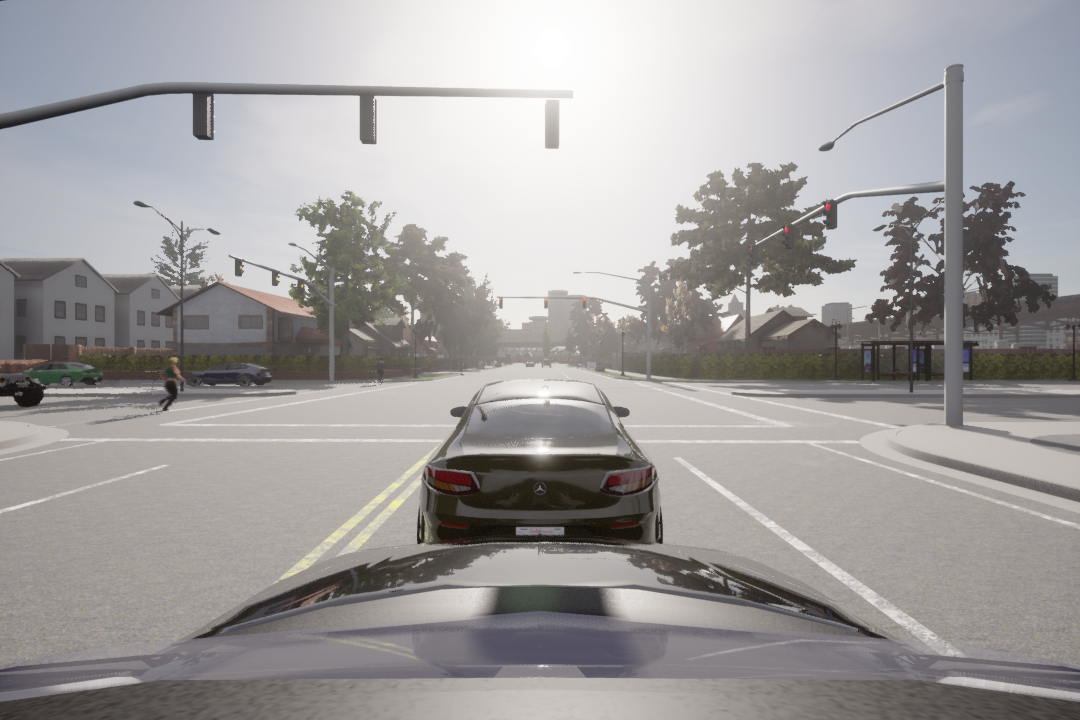TrafficLight: (819, 196, 841, 234), (780, 221, 795, 252), (234, 257, 245, 277), (270, 268, 281, 288), (748, 244, 758, 264), (579, 296, 591, 309), (296, 277, 306, 292), (541, 296, 550, 309), (497, 296, 504, 311)
